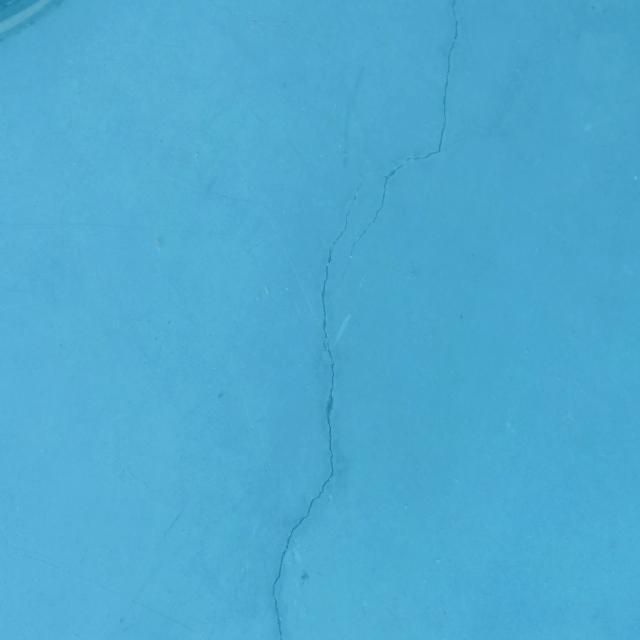crack: (272, 182, 362, 640), (341, 0, 459, 279)
